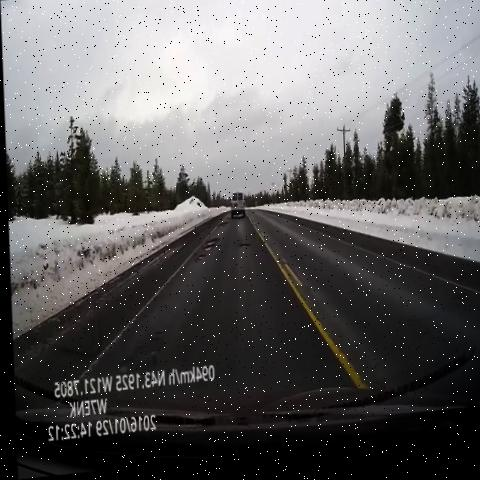pothole: (195, 235, 219, 260), (185, 254, 208, 275), (212, 217, 229, 244), (234, 241, 253, 260)
